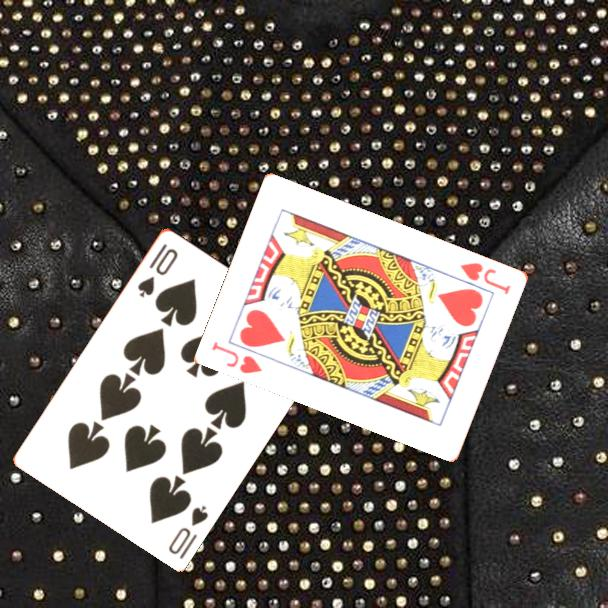h11: (457, 259, 514, 297), (209, 338, 265, 376)
s10: (134, 239, 181, 300), (165, 501, 211, 562)
